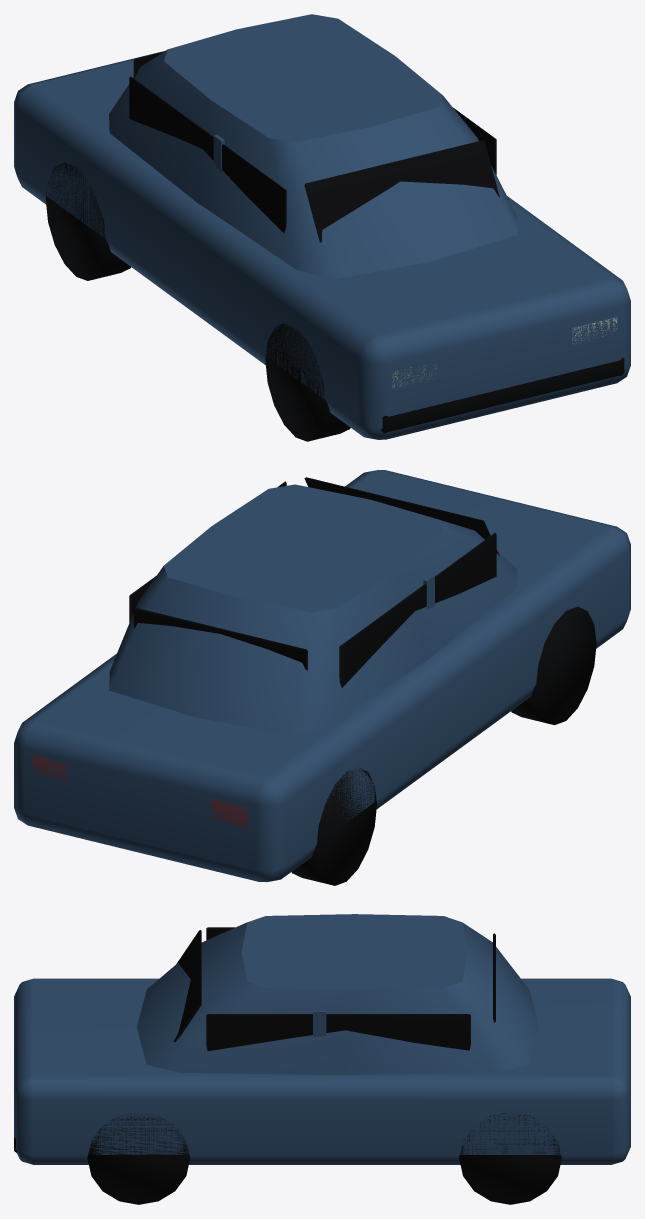
File: car-intact.glb
3 renders of one model, top to bottom at view 1: azimuth 30°, elevation 25°; view 2: azimuth 150°, elevation 25°; view 3: azimuth 270°, elevation 25°, orthographic. The views are drawn at different scales.
Parts seen in each view (by area): view 1: car-intact; view 2: car-intact; view 3: car-intact.
Boxes of the visible parts, left/top/right/bottom form: car-intact: left=14, top=14, right=630, bottom=441; car-intact: left=14, top=470, right=630, bottom=885; car-intact: left=14, top=914, right=630, bottom=1204.
Bounding box in the file's own units: 1.8 × 1.48 × 4.2.
Materials: 1 (1 with a texture image).
